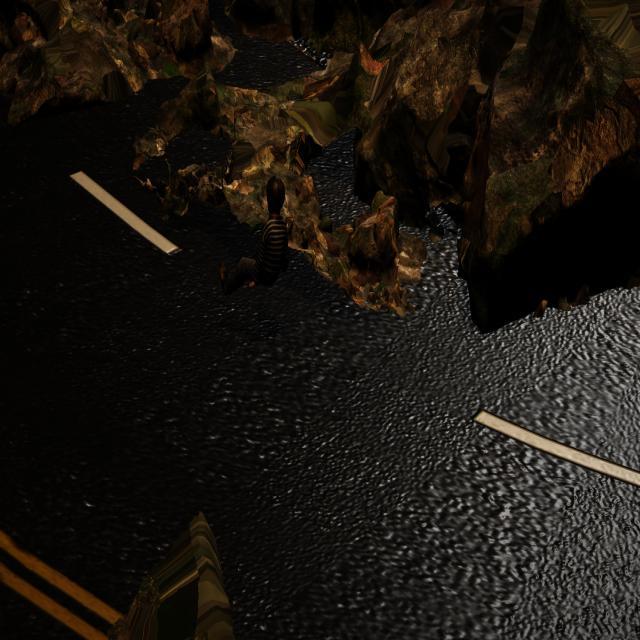Human: (208, 171, 290, 293)
